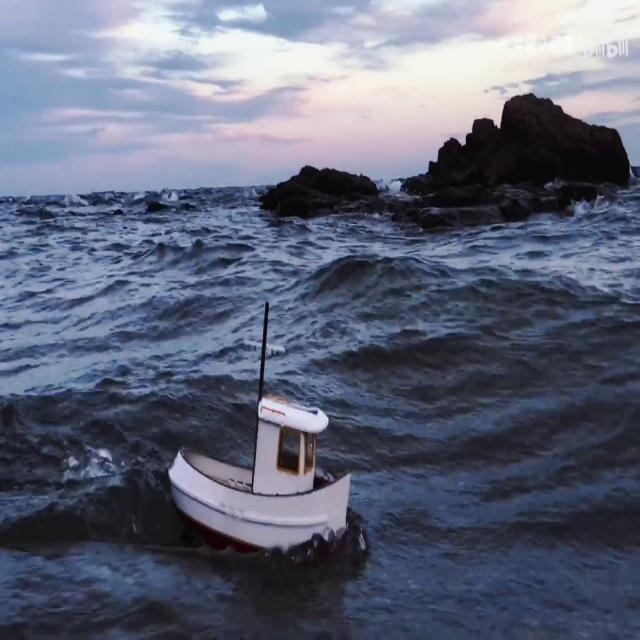houseboat: (162, 326, 354, 554)
